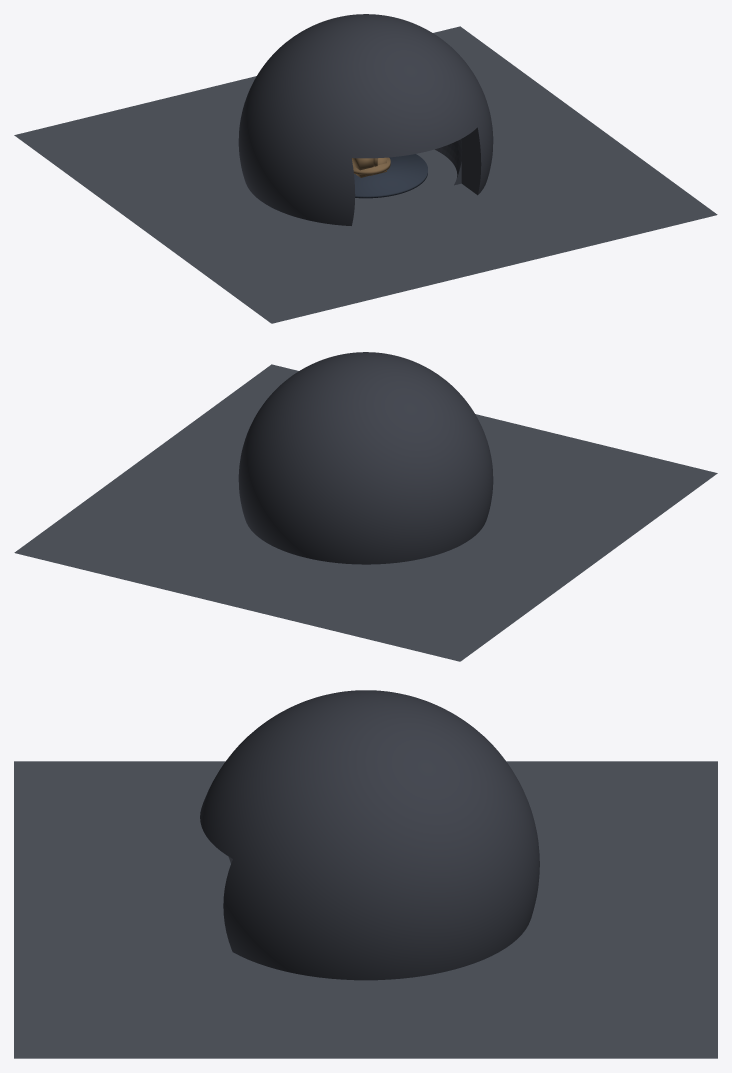
The picture shows the model from 3 angles, top to bottom: view 1: azimuth 30°, elevation 25°; view 2: azimuth 150°, elevation 25°; view 3: azimuth 270°, elevation 25°; orthographic projection. The views are drawn at different scales.
Visible parts, largest first — view 1: Stage_Floor, StarShell_Enclosure, Stage_Dais; view 2: Stage_Floor, StarShell_Enclosure; view 3: Stage_Floor, StarShell_Enclosure.
Part boxes in pixels (x1,y1,x2,y2): Stage_Floor: (14, 26, 717, 323); StarShell_Enclosure: (238, 14, 493, 225); Stage_Dais: (354, 154, 427, 198); Stage_Floor: (14, 364, 717, 661); StarShell_Enclosure: (238, 352, 493, 564); Stage_Floor: (14, 761, 717, 1058); StarShell_Enclosure: (200, 690, 539, 980).
Bounding box in the file's own units: 34 × 16.8 × 34.
